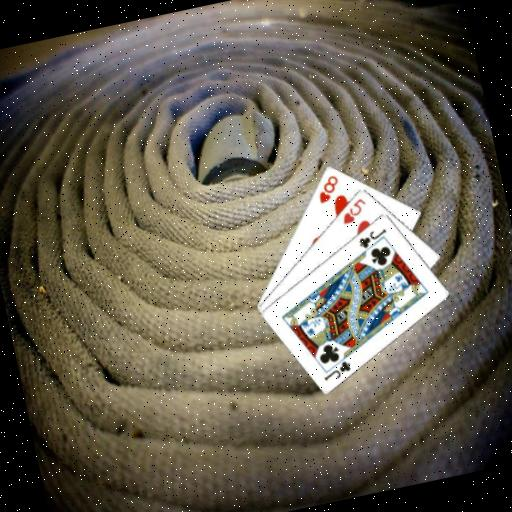5H: (335, 193, 370, 226)
8H: (311, 171, 343, 206)
JC: (353, 224, 390, 251), (318, 356, 355, 383)
